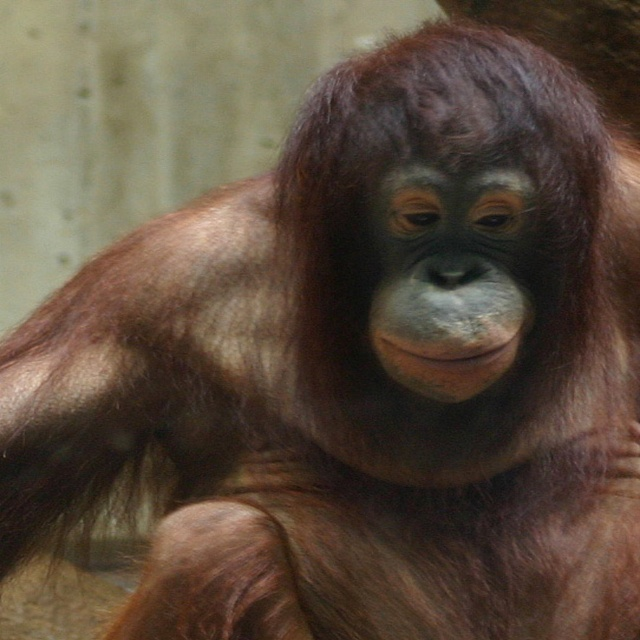Monkey: (0, 10, 639, 639)
